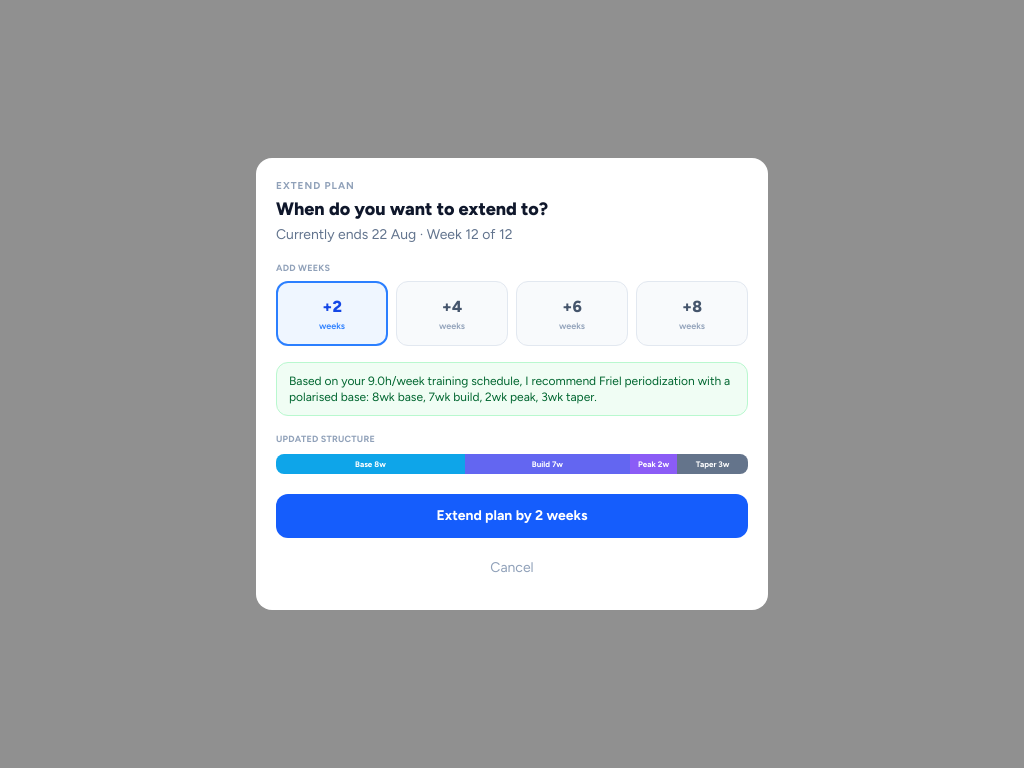
Test: ExtendPlanModal — job submission and polling › shows an error and returns to select phase when the job errors
Click the button "Extend plan by 2 weeks" at (512, 516), box [276, 494, 748, 538]
Wait 3000 ms
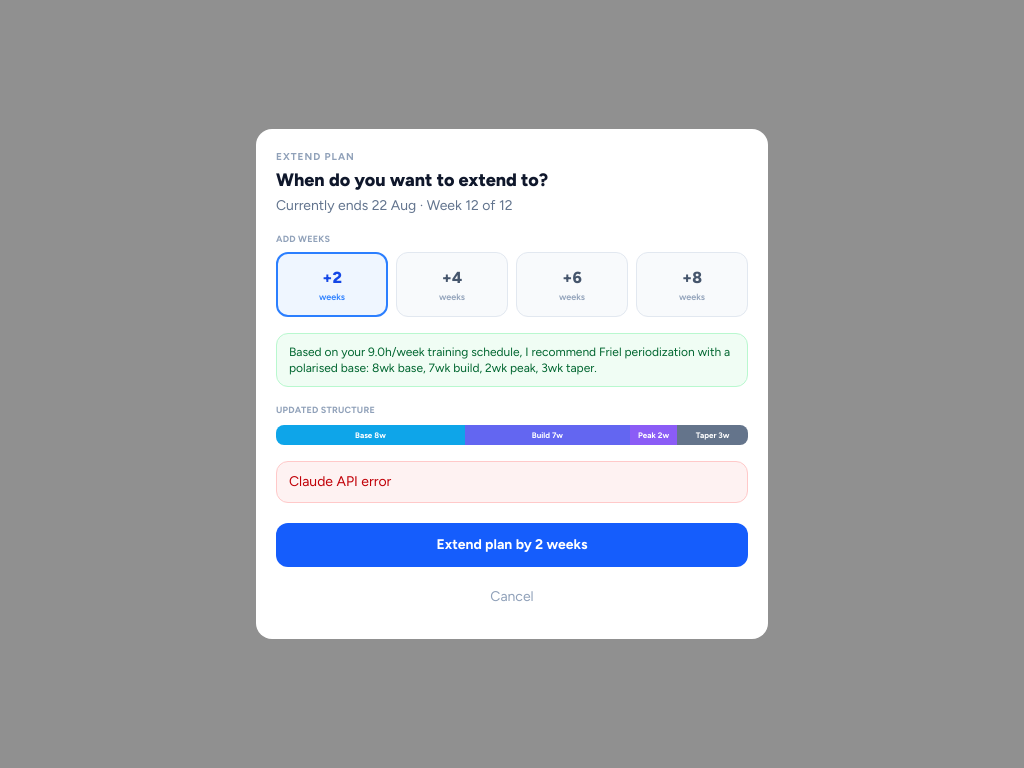
Expected: the text "Claude API error" is shown, [289, 473, 391, 490]
